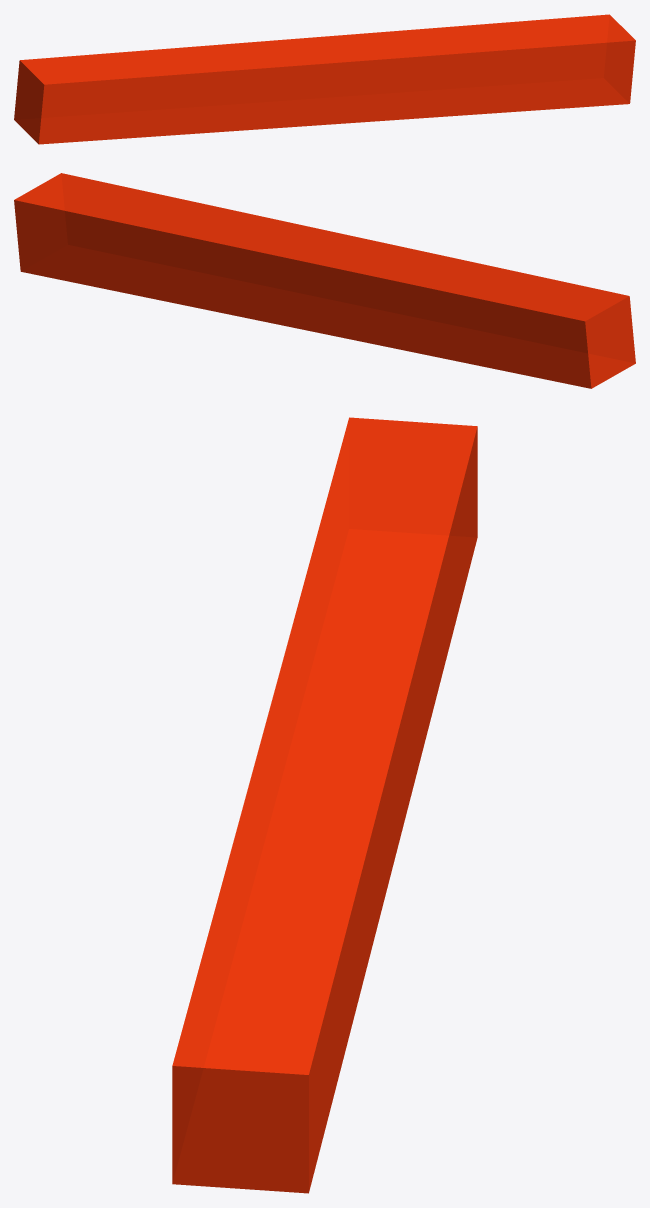
File: Event_420107950_EErechit_91.fbx
3 renders of one model, top to bottom at view 1: azimuth 30°, elevation 25°; view 2: azimuth 150°, elevation 25°; view 3: azimuth 270°, elevation 25°, orthographic. The views are drawn at different scales.
Parts seen in each view (by area): view 1: Model; view 2: Model; view 3: Model.
Boxes of the visible parts, x1=… form: Model: x1=14, y1=14, x2=635, y2=144; Model: x1=14, y1=173, x2=635, y2=388; Model: x1=172, y1=417, x2=477, y2=1193.
Bounding box in the file's own units: 0.7252 × 0.1482 × 0.1709.
